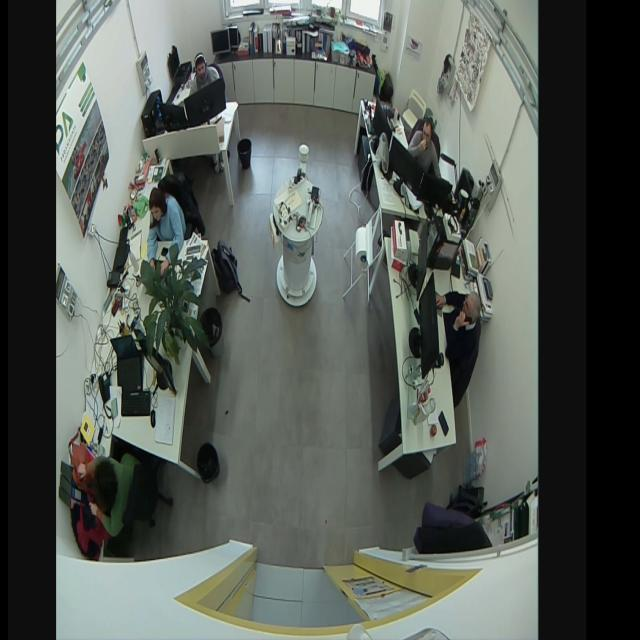Persona: (76, 444, 140, 540), (434, 284, 482, 365), (144, 186, 187, 272), (404, 118, 442, 178), (188, 50, 220, 97)
